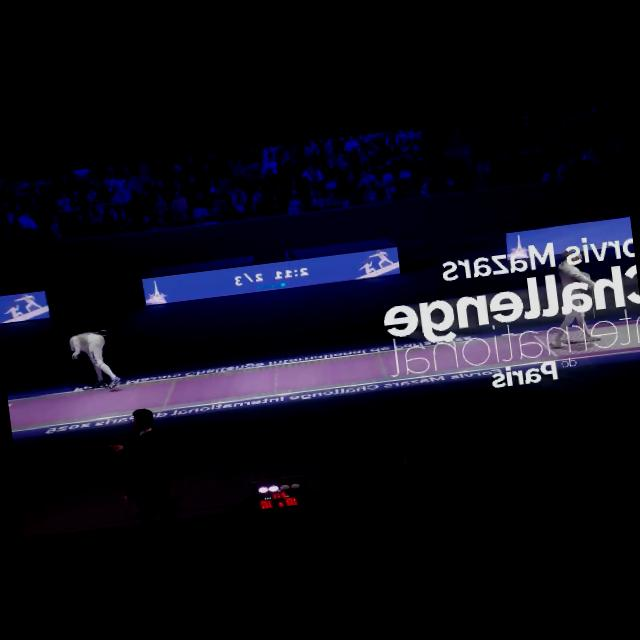blade: (58, 354, 78, 384)
